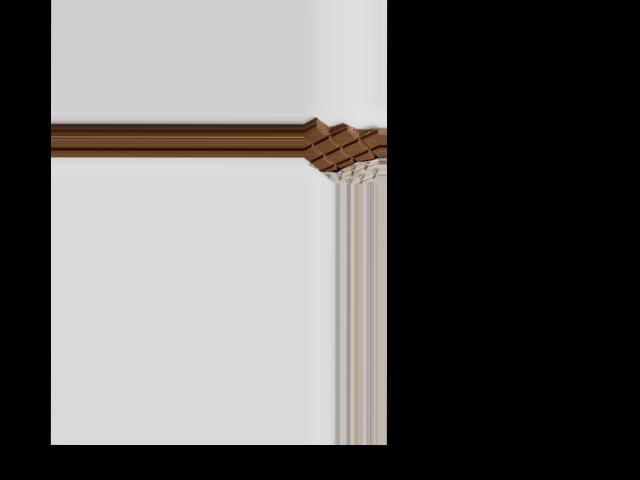chocolate: (305, 123, 379, 183)
